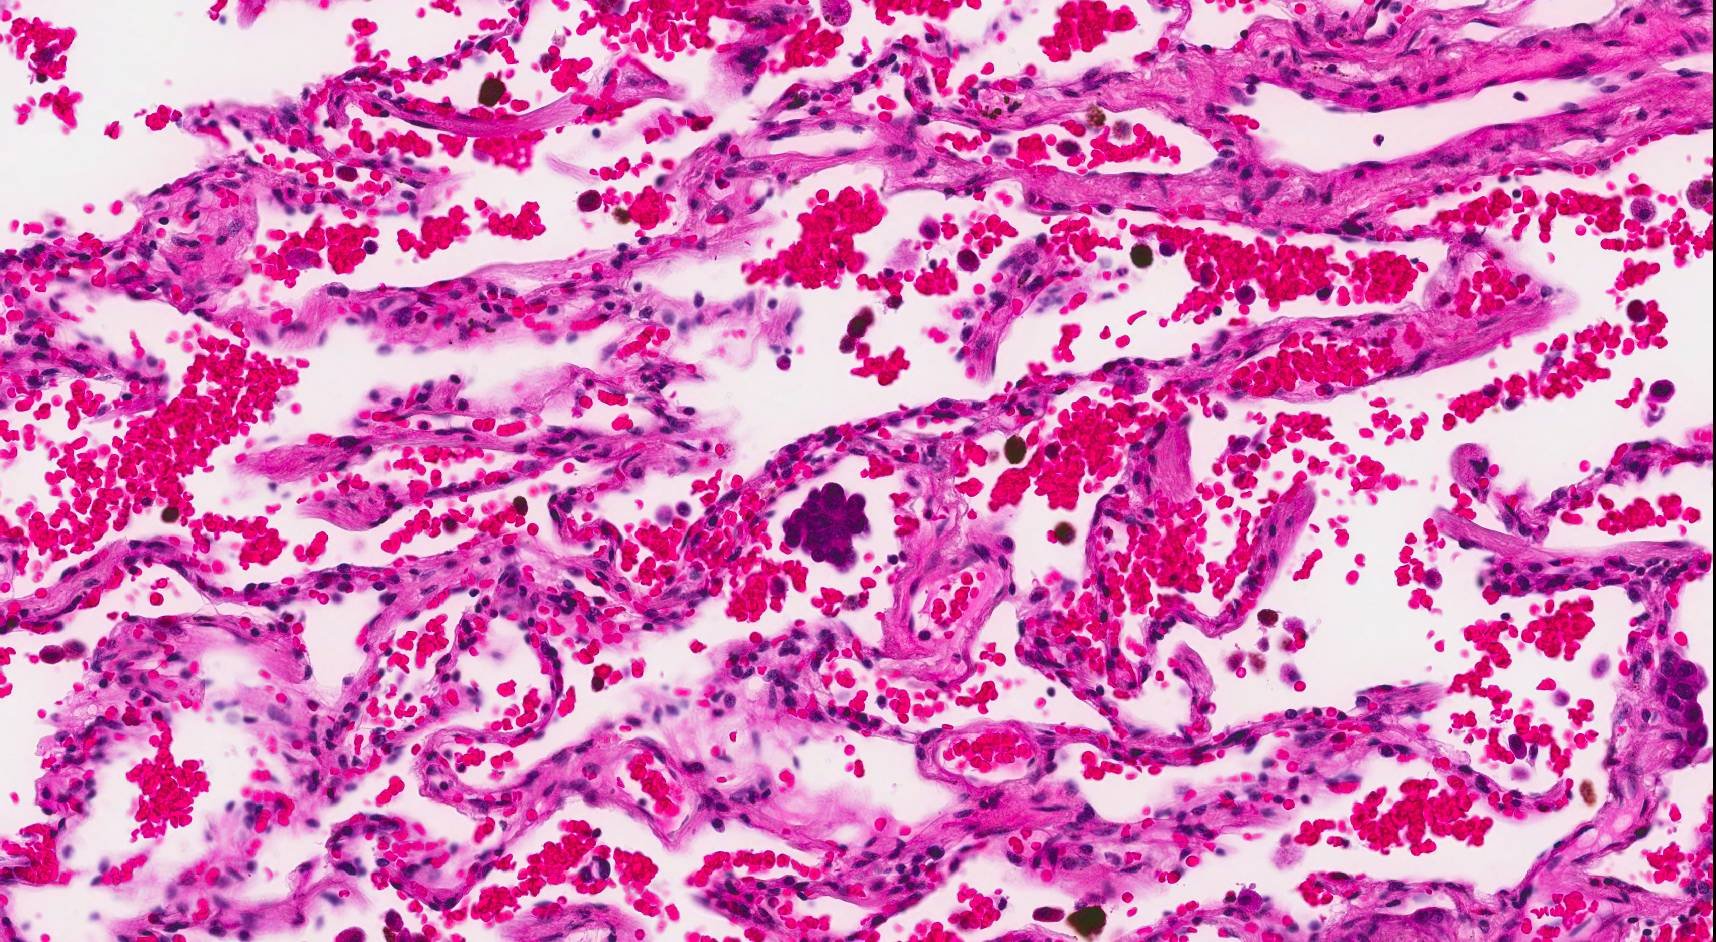stas: (782, 480, 875, 569)
